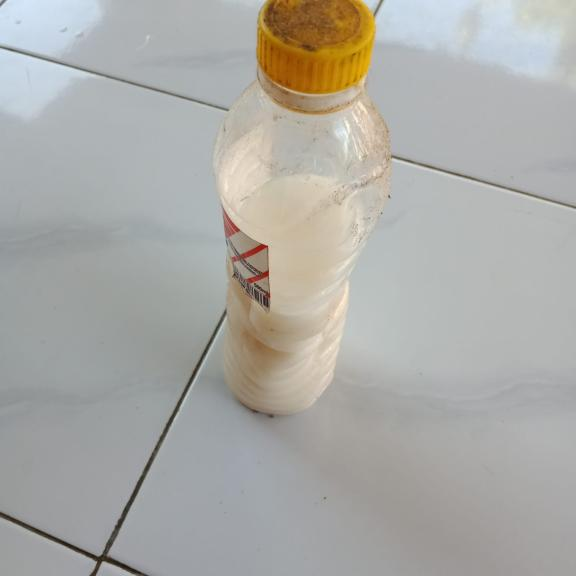Plastik: (215, 0, 394, 416)
